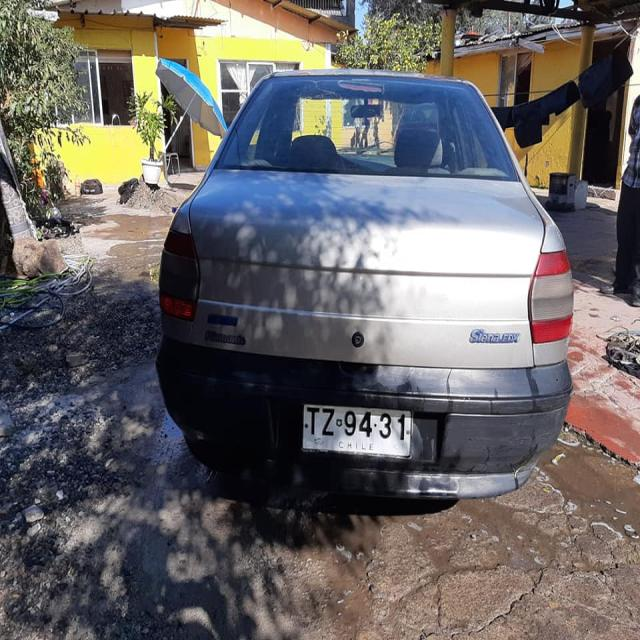patente: (300, 402, 413, 458)
